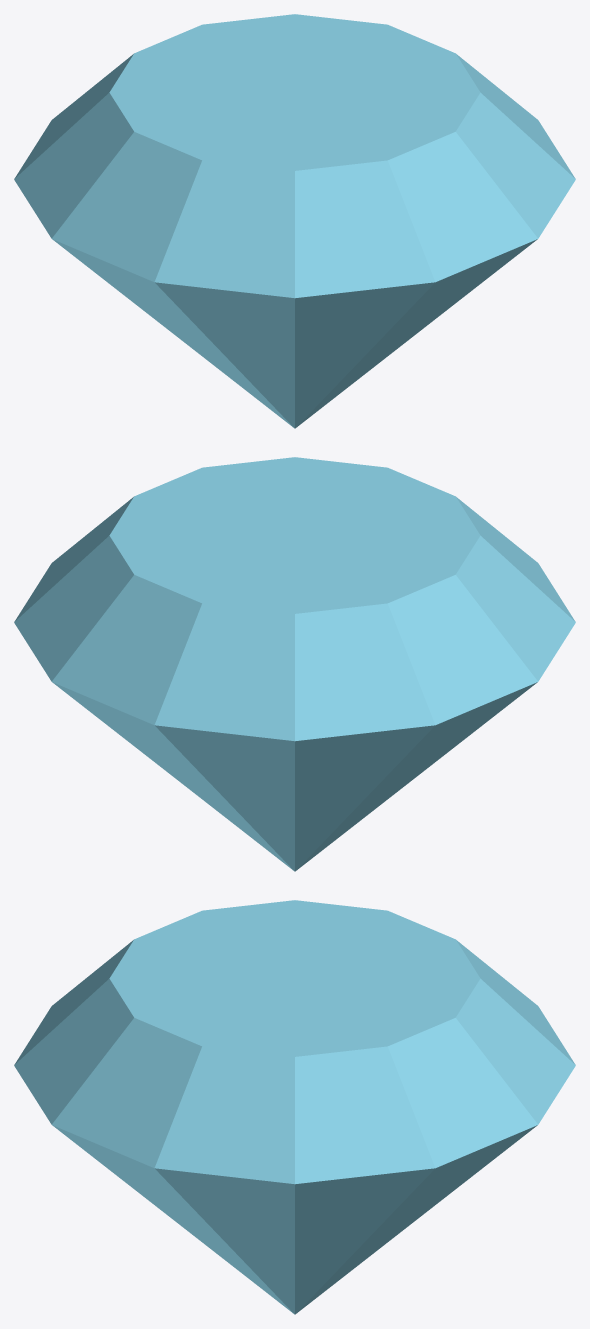
The model's file is Dimond.fbx.
3 renders of one model, top to bottom at view 1: azimuth 30°, elevation 25°; view 2: azimuth 150°, elevation 25°; view 3: azimuth 270°, elevation 25°, orthographic.
Parts seen in each view (by area): view 1: Cylinder.001; view 2: Cylinder.001; view 3: Cylinder.001.
Part boxes in pixels (box(x1,y1,x2,y2)): Cylinder.001: box(14, 14, 575, 428); Cylinder.001: box(14, 457, 575, 871); Cylinder.001: box(14, 900, 575, 1314).
Bounding box in the file's own units: 103 × 68.33 × 103.
